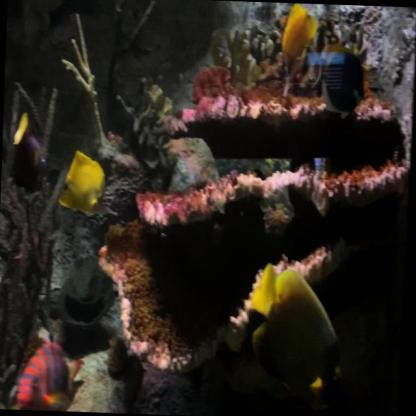fish: (247, 262, 345, 406), (303, 39, 367, 119), (16, 338, 85, 412), (57, 150, 108, 218), (278, 2, 319, 72), (12, 113, 49, 179)
